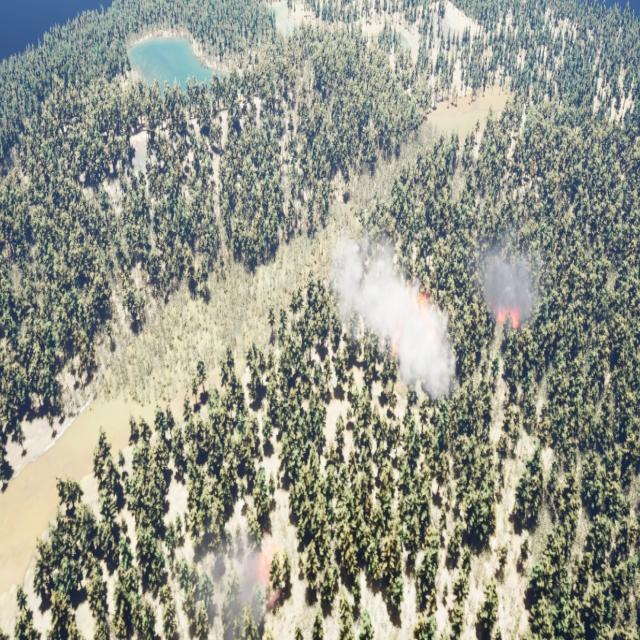fire: (389, 279, 434, 346), (494, 306, 522, 332)
smoke: (326, 234, 462, 413), (204, 544, 279, 639), (482, 246, 538, 340)
